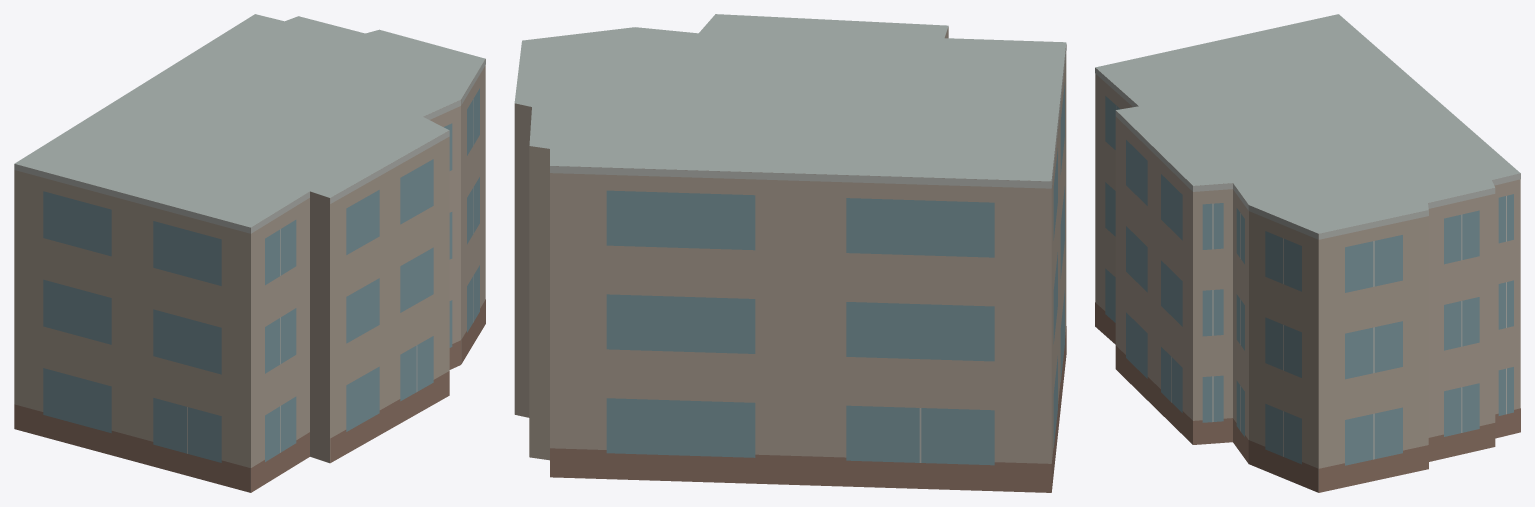
File: survey-upis-32695655.glb
3 renders of one model, left to right at view 1: azimuth 30°, elevation 25°; view 2: azimuth 150°, elevation 25°; view 3: azimuth 270°, elevation 25°, orthographic. The views are drawn at different scales.
Parts seen in each view (by area): view 1: survey-upis-32695655.tmp; view 2: survey-upis-32695655.tmp; view 3: survey-upis-32695655.tmp.
Part boxes in pixels (x1,y1,x2,y2): survey-upis-32695655.tmp: (14, 14, 485, 492); survey-upis-32695655.tmp: (514, 14, 1066, 492); survey-upis-32695655.tmp: (1095, 14, 1520, 492).
Size of the model in its own units: 19.12 by 10.5 by 15.64.
